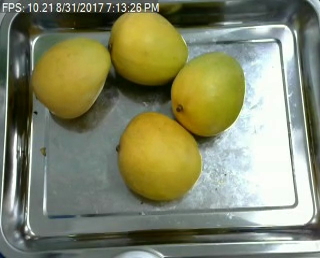Mango: (119, 109, 205, 204), (27, 36, 112, 116), (172, 51, 251, 137), (108, 9, 194, 87)
